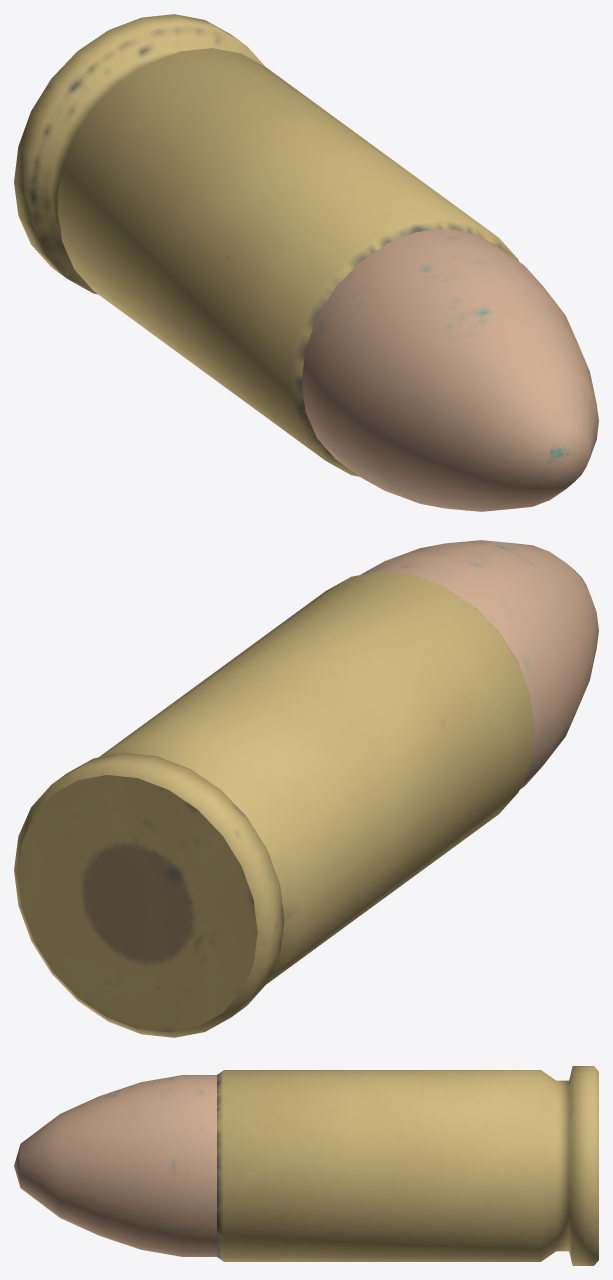
Rendered from Bullet.obj.
3 views of the same model, one above another, from view 1: azimuth 30°, elevation 25°; view 2: azimuth 150°, elevation 25°; view 3: azimuth 270°, elevation 25° (orthographic). The views are drawn at different scales.
Parts seen in each view (by area): view 1: WPN_cal_9mm_Untitled; view 2: WPN_cal_9mm_Untitled; view 3: WPN_cal_9mm_Untitled.
Part boxes in pixels (x1,y1,x2,y2): WPN_cal_9mm_Untitled: [14, 14, 598, 511]; WPN_cal_9mm_Untitled: [14, 540, 598, 1037]; WPN_cal_9mm_Untitled: [14, 1066, 598, 1265].
Size of the model in its own units: 0.0103 by 0.0103 by 0.0299.
Materials: 1 (1 with a texture image).
